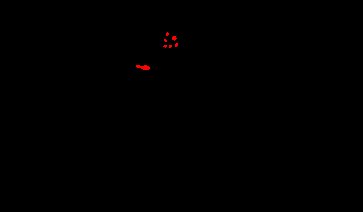Target: (136, 65, 150, 70), (172, 36, 177, 41), (166, 32, 169, 36), (175, 43, 178, 47), (163, 45, 167, 48), (164, 39, 167, 42), (169, 45, 172, 48)
